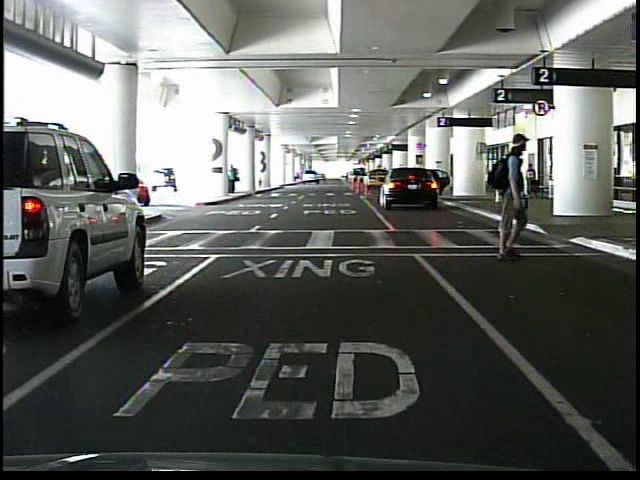person: (475, 138, 555, 261), (488, 157, 510, 207), (510, 162, 527, 210), (525, 163, 536, 198), (228, 164, 238, 195)
